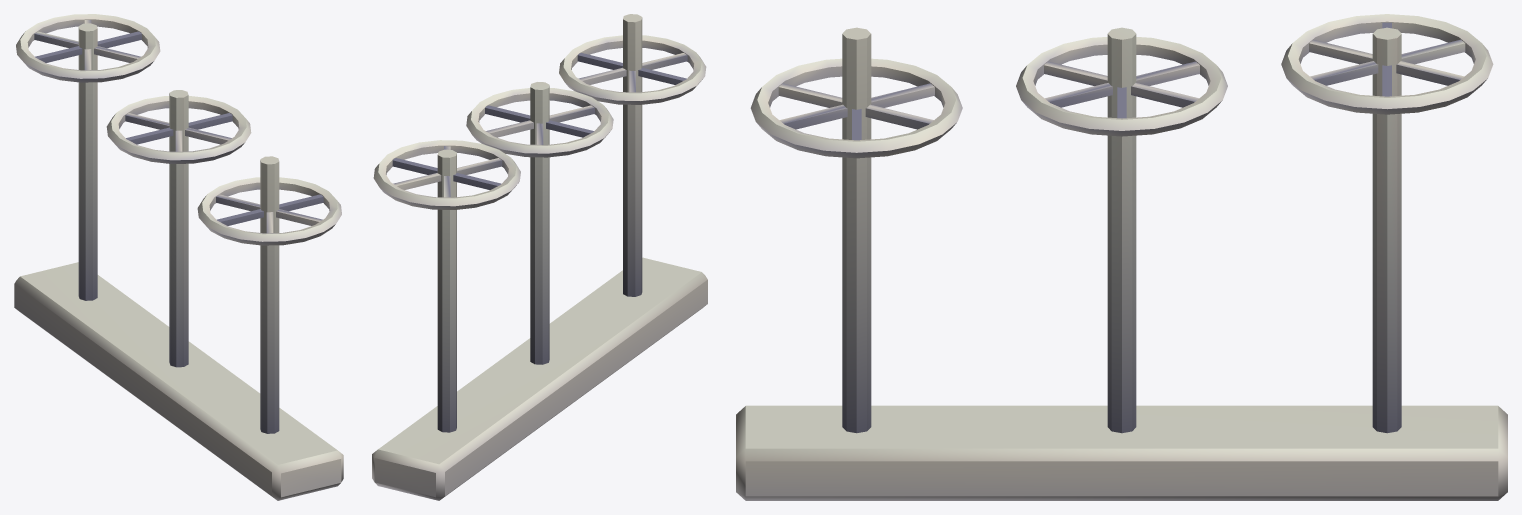
File: sluice-wheels.glb
3 renders of one model, left to right at view 1: azimuth 30°, elevation 25°; view 2: azimuth 150°, elevation 25°; view 3: azimuth 270°, elevation 25°, orthographic. The views are drawn at different scales.
Visible parts, largest first — view 1: body; view 2: body; view 3: body.
Part boxes in pixels (x1,y1,x2,y2): body: [14, 14, 343, 500]; body: [372, 14, 707, 500]; body: [736, 14, 1507, 500].
Bounding box in the file's own units: 0.44 × 1.02 × 1.6.
